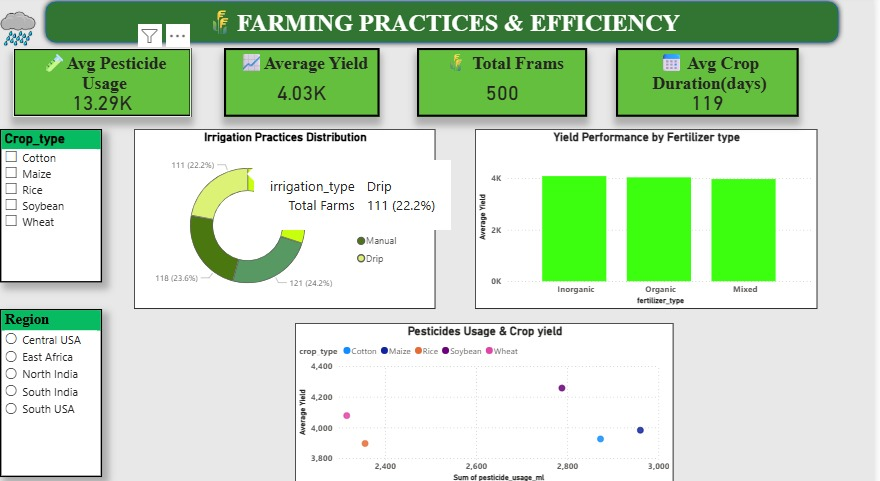

This screenshot's page, from the dashboard's own definition file:
{"tool":"powerbi","page":{"name":"Farming Practices","canvas":[1280,720],"ordinal":3},"visuals":[{"type":"shape","box":[79.5,0,1157.8,74.9],"z":0},{"type":"card","title":"🧪Avg Pesticide Usage","fields":{"Values":["Sum(Smart_Farming_Crop_Yield_2024 (1).pesticide_usage_ml)"]},"box":[40.4,74.6,256.8,99],"z":1000},{"type":"card","title":"📈Average Yield","fields":{"Values":["Smart_Farming_Crop_Yield_2024 (1).Average Yield"]},"box":[344.8,74.6,223.8,99],"z":2000},{"type":"card","title":"🌾 Total Frams","fields":{"Values":["Smart_Farming_Crop_Yield_2024 (1).Total Farms"]},"box":[622.4,74.6,244.6,99],"z":3000},{"type":"donutChart","title":"Irrigation Practices Distribution","fields":{"Category":["Smart_Farming_Crop_Yield_2024 (1).irrigation_type"],"Y":["Smart_Farming_Crop_Yield_2024 (1).Total Farms"]},"box":[214,192,434.1,259.2],"z":4000},{"type":"clusteredColumnChart","title":"Yield Performance by Fertilizer type","fields":{"Category":["Smart_Farming_Crop_Yield_2024 (1).fertilizer_type"],"Y":["Smart_Farming_Crop_Yield_2024 (1).Average Yield"]},"box":[705.6,192,492.8,259.2],"z":5000},{"type":"scatterChart","title":"Pesticides Usage & Crop yield","fields":{"X":["Sum(Smart_Farming_Crop_Yield_2024 (1).pesticide_usage_ml)"],"Y":["Smart_Farming_Crop_Yield_2024 (1).Average Yield"],"Series":["Smart_Farming_Crop_Yield_2024 (1).crop_type"]},"box":[446.3,470.8,545.4,234.8],"z":6000},{"type":"listSlicer","title":"Crop_type","fields":{"Values":["Smart_Farming_Crop_Yield_2024 (1).crop_type"]},"box":[22,192,146.7,221.3],"z":7000},{"type":"listSlicer","title":"Region","fields":{"Values":["Smart_Farming_Crop_Yield_2024 (1).region"]},"box":[22,451.2,146.9,241.9],"z":8000},{"type":"card","title":"📅 Avg Crop Duration(days)","fields":{"Values":["Smart_Farming_Crop_Yield_2024 (1).Average Crop Duration"]},"box":[908.6,74.6,262.9,99],"z":9000},{"type":"image","box":[0,0,95.3,94.1],"z":10000}]}

Visuals, with their boxes in screenshot pixels (x1, y1, x2, y2), scaled from the page's 1280x720 canvas onto the 880x481 screenshot:
shape: locate(55, 0, 851, 50)
"🧪Avg Pesticide Usage" card: locate(28, 50, 204, 116)
"📈Average Yield" card: locate(237, 50, 391, 116)
"🌾 Total Frams" card: locate(428, 50, 596, 116)
"Irrigation Practices Distribution" donutChart: locate(147, 128, 446, 301)
"Yield Performance by Fertilizer type" clusteredColumnChart: locate(485, 128, 824, 301)
"Pesticides Usage & Crop yield" scatterChart: locate(307, 315, 682, 471)
"Crop_type" listSlicer: locate(15, 128, 116, 276)
"Region" listSlicer: locate(15, 301, 116, 463)
"📅 Avg Crop Duration(days)" card: locate(625, 50, 805, 116)
image: locate(0, 0, 66, 63)
